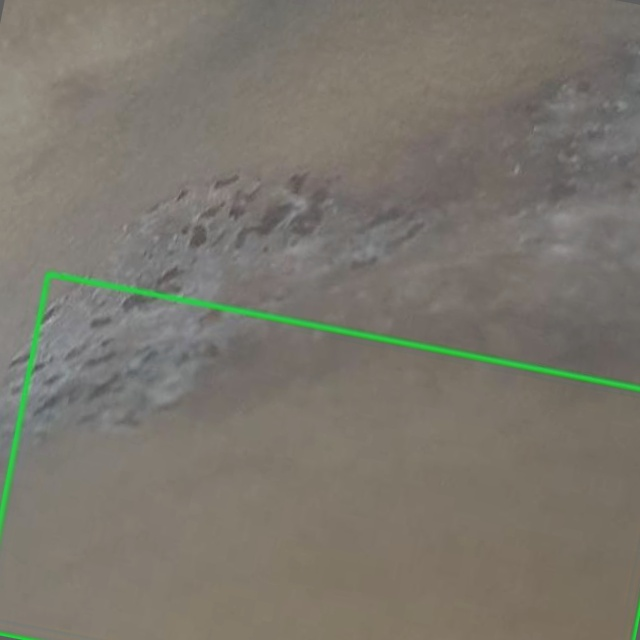Eczema: (0, 272, 639, 639)
